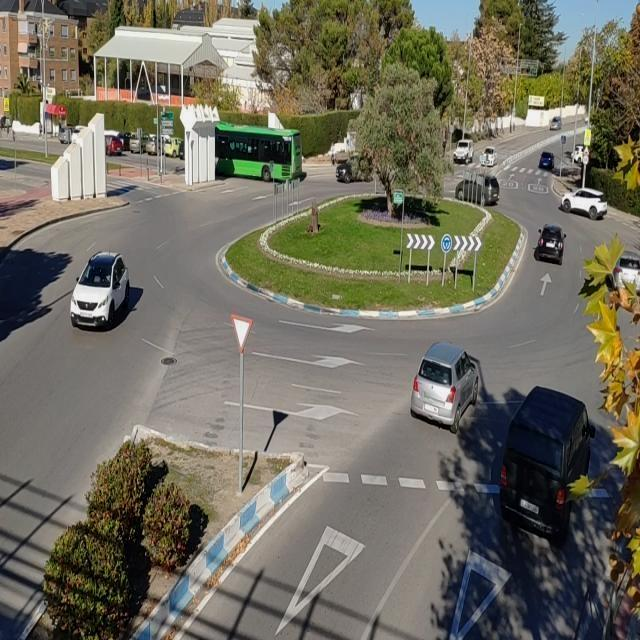Bus: (201, 115, 316, 189)
Car: (473, 368, 607, 551), (388, 342, 489, 462), (41, 239, 143, 347), (537, 163, 619, 219), (453, 162, 511, 208), (541, 210, 571, 292), (616, 256, 640, 315)
